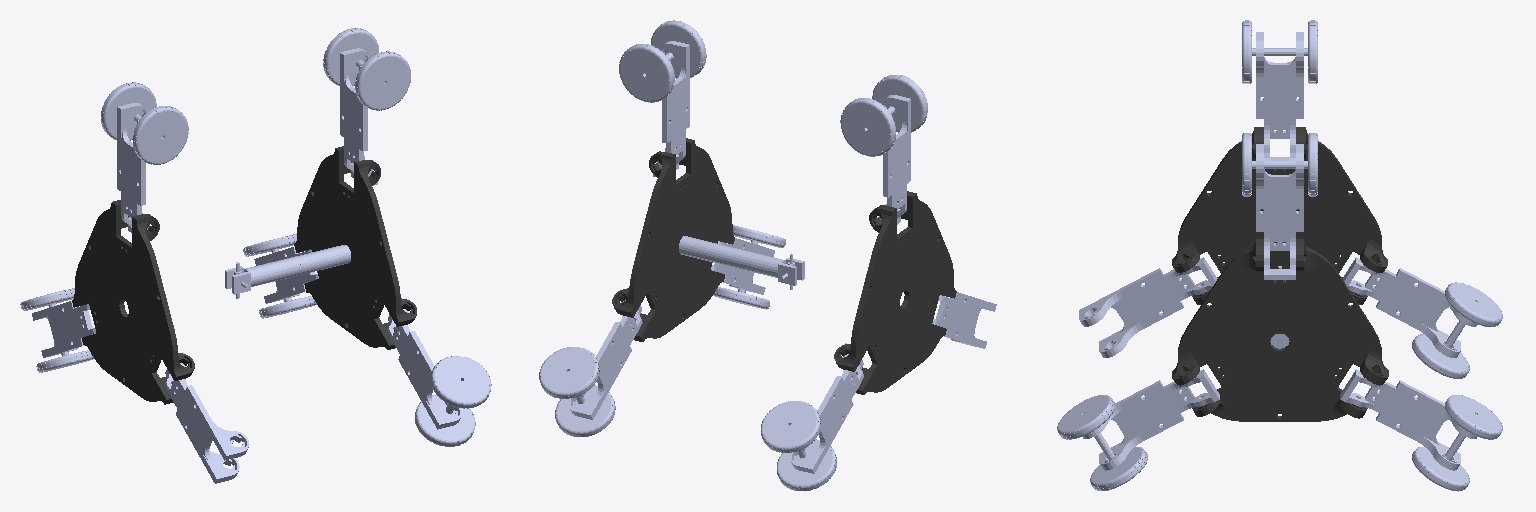
--- What the picture shows (computed from the rendered views, not written in the file) ---
The picture shows the robot from 3 angles, left to right: view 1: azimuth 30°, elevation 25°; view 2: azimuth 150°, elevation 25°; view 3: azimuth 270°, elevation 25°; orthographic projection.
Robot: segl_ver3 — 19 links, 18 joints (8 revolute, 6 continuous, 2 prismatic, 2 fixed); root link base_link; default pose: every joint at zero.
Links seen in each view (by area): view 1: base_link, base2, w6, w3, w4, sus1, sus3, sus4, sus6, sus2, con3, w2 (+3 smaller); view 2: base_link, base2, w3, w6, w5, w2, sus2, sus5, sus6, sus3, sus1, con3 (+3 smaller); view 3: base2, base_link, sus1, sus5, sus4, sus2, sus6, sus3, w5, w4, w2, w6 (+1 smaller).
Boxes of the visible links, x1,y1,x2,y2 form: base_link: (72,200,194,404); base2: (294,146,416,349); w6: (323,28,410,110); w3: (101,82,188,164); w4: (415,356,491,446); sus1: (165,352,248,483); sus3: (117,103,154,238); sus4: (388,298,461,429); sus6: (340,48,377,185); sus2: (32,301,95,357); con3: (225,257,300,294); w2: (20,288,93,372); base_link: (834,191,956,394); base2: (612,138,734,341); w3: (840,75,927,156); w6: (619,20,706,102); w5: (539,347,615,436); w2: (761,401,836,490); sus2: (790,343,863,473); sus5: (568,300,642,419); sus6: (653,41,689,176); sus3: (879,95,910,224); sus1: (932,292,996,348); con3: (728,248,804,285); base2: (1172,239,1388,421); base_link: (1172,127,1387,304); sus1: (1079,257,1217,357); sus5: (1340,369,1476,470); sus4: (1083,369,1219,470); sus2: (1342,257,1477,357); sus6: (1256,144,1303,279); sus3: (1256,32,1303,160); w5: (1412,395,1502,491); w4: (1057,395,1147,490); w2: (1412,282,1502,378); w6: (1242,133,1317,196).
Size in the robot's own frame: 0.165 by 0.2231 by 0.1936 metres.
Meshes: 19 distinct files referenced, 16 mesh visuals loaded (16 binary STL); not drawn: 3 (reference not matched to a file when rendering).

The robot description file, URDF, robot "segl_ver3":
<?xml version="1.0" encoding="utf-8"?>
<!-- This URDF was automatically created by SolidWorks to URDF Exporter! Originally created by Stephen Brawner ([email redacted]) 
     Commit Version: 1.6.0-1-g15f4949  Build Version: 1.6.7594.29634
     For more information, please see http://wiki.ros.org/sw_urdf_exporter -->
<robot
  name="segl_ver3">
  <link
    name="base_link">
    <inertial>
      <origin
        xyz="0.0107631885751334 -0.196706606649359 0.125751388465178"
        rpy="0 0 0" />
      <mass
        value="0.0292481653022373" />
      <inertia
        ixx="3.88747734808684E-05"
        ixy="-3.06596509862475E-09"
        ixz="-5.98006564893272E-08"
        iyy="1.98637946417116E-05"
        iyz="-7.64627510958977E-10"
        izz="1.93056895699406E-05" />
    </inertial>
    <visual>
      <origin
        xyz="0 0 0"
        rpy="0 0 0" />
      <geometry>
        <mesh
          filename="package://segl_ver3/meshes/base_link.STL" />
      </geometry>
      <material
        name="">
        <color
          rgba="0.298039215686275 0.298039215686275 0.298039215686275 1" />
      </material>
    </visual>
    <collision>
      <origin
        xyz="0 0 0"
        rpy="0 0 0" />
      <geometry>
        <mesh
          filename="package://segl_ver3/meshes/base_link.STL" />
      </geometry>
    </collision>
  </link>
  <link
    name="sus1">
    <inertial>
      <origin
        xyz="0.0245281392565478 -0.00579743460623024 -0.00799999809102764"
        rpy="0 0 0" />
      <mass
        value="0.00484464615393237" />
      <inertia
        ixx="3.44953495510738E-07"
        ixy="5.10613042897034E-08"
        ixz="1.27802151011425E-14"
        iyy="2.31225028349891E-06"
        iyz="2.19478513297689E-14"
        izz="2.08649864683354E-06" />
    </inertial>
    <visual>
      <origin
        xyz="0 0 0"
        rpy="0 0 0" />
      <geometry>
        <mesh
          filename="package://segl_ver3/meshes/sus1.STL" />
      </geometry>
      <material
        name="">
        <color
          rgba="0.792156862745098 0.819607843137255 0.933333333333333 1" />
      </material>
    </visual>
    <collision>
      <origin
        xyz="0 0 0"
        rpy="0 0 0" />
      <geometry>
        <mesh
          filename="package://segl_ver3/meshes/sus1.STL" />
      </geometry>
    </collision>
  </link>
  <joint
    name="sus1r"
    type="revolute">
    <origin
      xyz="0.0209492573018266 -0.281484925581457 0.067161403096656"
      rpy="3.14159265358979 -0.523598775598299 1.57079632679491" />
    <parent
      link="base_link" />
    <child
      link="sus1" />
    <axis
      xyz="0 0 -1" />
    <limit
      lower="0"
      upper="0"
      effort="0"
      velocity="0" />
  </joint>
  <link
    name="w1">
    <inertial>
      <origin
        xyz="5.22216991871716E-12 0.0109999999662131 1.83967285849462E-11"
        rpy="0 0 0" />
      <mass
        value="0.00802564595067572" />
      <inertia
        ixx="2.63042675367951E-06"
        ixy="-7.55275668023255E-16"
        ixz="6.57318689953459E-16"
        iyy="9.68771865572928E-07"
        iyz="-1.40328660408691E-15"
        izz="2.63042674934207E-06" />
    </inertial>
    <visual>
      <origin
        xyz="0 0 0"
        rpy="0 0 0" />
      <geometry>
        <mesh
          filename="package://segl_ver3/meshes/w1.STL" />
      </geometry>
      <material
        name="">
        <color
          rgba="0.792156862745098 0.819607843137255 0.933333333333333 1" />
      </material>
    </visual>
    <collision>
      <origin
        xyz="0 0 0"
        rpy="0 0 0" />
      <geometry>
        <mesh
          filename="package://segl_ver3/meshes/w1.STL" />
      </geometry>
    </collision>
  </link>
  <joint
    name="w1c"
    type="continuous">
    <origin
      xyz="0 0 -0.019"
      rpy="1.5707963267949 0 -1.09932300692303" />
    <parent
      link="sus1" />
    <child
      link="w1" />
    <axis
      xyz="0 1 0" />
  </joint>
  <link
    name="sus2">
    <inertial>
      <origin
        xyz="0.0245281388862843 -0.00579743458596982 -0.00799999408218524"
        rpy="0 0 0" />
      <mass
        value="0.00484464622012381" />
      <inertia
        ixx="3.44953504540437E-07"
        ixy="5.10613036903035E-08"
        ixz="1.55592500691201E-13"
        iyy="2.31225031988856E-06"
        iyz="4.30376878606254E-14"
        izz="2.0864986737292E-06" />
    </inertial>
    <visual>
      <origin
        xyz="0 0 0"
        rpy="0 0 0" />
      <geometry>
        <mesh
          filename="package://segl_ver3/meshes/sus2.STL" />
      </geometry>
      <material
        name="">
        <color
          rgba="0.792156862745098 0.819607843137255 0.933333333333333 1" />
      </material>
    </visual>
    <collision>
      <origin
        xyz="0 0 0"
        rpy="0 0 0" />
      <geometry>
        <mesh
          filename="package://segl_ver3/meshes/sus2.STL" />
      </geometry>
    </collision>
  </link>
  <joint
    name="sus2r"
    type="revolute">
    <origin
      xyz="0.0209492573018259 -0.103962409966498 0.0810178095573729"
      rpy="0 -0.523598775598294 -1.5707963267949" />
    <parent
      link="base_link" />
    <child
      link="sus2" />
    <axis
      xyz="0 0 -1" />
    <limit
      lower="0"
      upper="0"
      effort="0"
      velocity="0" />
  </joint>
  <link
    name="w2">
    <inertial>
      <origin
        xyz="5.21314241774817E-12 0.0109999999660882 1.84374460143744E-11"
        rpy="0 0 0" />
      <mass
        value="0.00802564595064063" />
      <inertia
        ixx="2.63042675366783E-06"
        ixy="-7.55284323641185E-16"
        ixz="6.57278297069787E-16"
        iyy="9.6877186556785E-07"
        iyz="-1.3996895463275E-15"
        izz="2.63042674933547E-06" />
    </inertial>
    <visual>
      <origin
        xyz="0 0 0"
        rpy="0 0 0" />
      <geometry>
        <mesh
          filename="package://segl_ver3/meshes/w2.STL" />
      </geometry>
      <material
        name="">
        <color
          rgba="0.792156862745098 0.819607843137255 0.933333333333333 1" />
      </material>
    </visual>
    <collision>
      <origin
        xyz="0 0 0"
        rpy="0 0 0" />
      <geometry>
        <mesh
          filename="package://segl_ver3/meshes/w2.STL" />
      </geometry>
    </collision>
  </link>
  <joint
    name="w2c"
    type="continuous">
    <origin
      xyz="0 0 -0.019"
      rpy="1.5707963267949 0 -1.09932300692303" />
    <parent
      link="sus2" />
    <child
      link="w2" />
    <axis
      xyz="0 1 0" />
  </joint>
  <link
    name="sus3">
    <inertial>
      <origin
        xyz="0.0245281427339186 -0.00579743476204341 -0.00799999583699243"
        rpy="0 0 0" />
      <mass
        value="0.00484464531506038" />
      <inertia
        ixx="3.44953306450567E-07"
        ixy="5.10613156648366E-08"
        ixz="7.85719483349813E-14"
        iyy="2.31224993634185E-06"
        iyz="3.48701370300672E-14"
        izz="2.08649849059194E-06" />
    </inertial>
    <visual>
      <origin
        xyz="0 0 0"
        rpy="0 0 0" />
      <geometry>
        <mesh
          filename="package://segl_ver3/meshes/sus3.STL" />
      </geometry>
      <material
        name="">
        <color
          rgba="0.792156862745098 0.819607843137255 0.933333333333333 1" />
      </material>
    </visual>
    <collision>
      <origin
        xyz="0 0 0"
        rpy="0 0 0" />
      <geometry>
        <mesh
          filename="package://segl_ver3/meshes/sus3.STL" />
      </geometry>
    </collision>
  </link>
  <joint
    name="sus3r"
    type="revolute">
    <origin
      xyz="0.0209492573018252 -0.20472366777412 0.227828614593289"
      rpy="1.5707963267949 1.5707963267949 0" />
    <parent
      link="base_link" />
    <child
      link="sus3" />
    <axis
      xyz="0 0 1" />
    <limit
      lower="0"
      upper="0"
      effort="0"
      velocity="0" />
  </joint>
  <link
    name="w3">
    <inertial>
      <origin
        xyz="5.21754861537715E-12 0.0109999999661513 1.84169901551456E-11"
        rpy="0 0 0" />
      <mass
        value="0.00802564595065764" />
      <inertia
        ixx="2.63042675367367E-06"
        ixy="-7.5526741230513E-16"
        ixz="6.57296825915509E-16"
        iyy="9.6877186557038E-07"
        iyz="-1.40145231771364E-15"
        izz="2.63042674933879E-06" />
    </inertial>
    <visual>
      <origin
        xyz="0 0 0"
        rpy="0 0 0" />
      <geometry>
        <mesh
          filename="package://segl_ver3/meshes/w3.STL" />
      </geometry>
      <material
        name="">
        <color
          rgba="0.792156862745098 0.819607843137255 0.933333333333333 1" />
      </material>
    </visual>
    <collision>
      <origin
        xyz="0 0 0"
        rpy="0 0 0" />
      <geometry>
        <mesh
          filename="package://segl_ver3/meshes/w3.STL" />
      </geometry>
    </collision>
  </link>
  <joint
    name="w3c"
    type="continuous">
    <origin
      xyz="0 0 -0.019"
      rpy="1.5707963267949 0 -1.09932300692303" />
    <parent
      link="sus3" />
    <child
      link="w3" />
    <axis
      xyz="0 1 0" />
  </joint>
  <link
    name="con1">
    <inertial>
      <origin
        xyz="0.0150000000000001 -8.32667268468867E-17 -1.52655665885959E-16"
        rpy="0 0 0" />
      <mass
        value="0.00235619449019234" />
      <inertia
        ixx="2.94524311274043E-08"
        ixy="4.86347831101101E-22"
        ixz="1.21907854063494E-21"
        iyy="1.91440802328128E-07"
        iyz="0"
        izz="1.91440802328128E-07" />
    </inertial>
    <visual>
      <origin
        xyz="0 0 0"
        rpy="0 0 0" />
      <geometry>
        <mesh
          filename="package://segl_ver3/meshes/con1.STL" />
      </geometry>
      <material
        name="">
        <color
          rgba="0.792156862745098 0.819607843137255 0.933333333333333 1" />
      </material>
    </visual>
    <collision>
      <origin
        xyz="0 0 0"
        rpy="0 0 0" />
      <geometry>
        <mesh
          filename="package://segl_ver3/meshes/con1.STL" />
      </geometry>
    </collision>
  </link>
  <joint
    name="con1f"
    type="fixed">
    <origin
      xyz="0.0116192573018258 -0.196723667774025 0.125335942415772"
      rpy="3.05723846361397 0 0" />
    <parent
      link="base_link" />
    <child
      link="con1" />
    <axis
      xyz="0 0 0" />
  </joint>
  <link
    name="con2">
    <inertial>
      <origin
        xyz="5.55111512312578E-17 0.0511300493614309 -2.22044604925031E-16"
        rpy="0 0 0" />
      <mass
        value="0.00279336263712055" />
      <inertia
        ixx="3.47148573143988E-07"
        ixy="-3.19850039887356E-22"
        ixz="6.2082539733927E-24"
        iyy="3.99316347503688E-08"
        iyz="1.06347580390551E-21"
        izz="3.49420107139763E-07" />
    </inertial>
    <visual>
      <origin
        xyz="0 0 0"
        rpy="0 0 0" />
      <geometry>
        <mesh
          filename="package://segl_ver3/meshes/con2.STL" />
      </geometry>
      <material
        name="">
        <color
          rgba="0.792156862745098 0.819607843137255 0.933333333333333 1" />
      </material>
    </visual>
    <collision>
      <origin
        xyz="0 0 0"
        rpy="0 0 0" />
      <geometry>
        <mesh
          filename="package://segl_ver3/meshes/con2.STL" />
      </geometry>
    </collision>
  </link>
  <joint
    name="con2p"
    type="prismatic">
    <origin
      xyz="-0.00299999999999994 0 0"
      rpy="0 -1.48644213681907 -1.5707963267948" />
    <parent
      link="con1" />
    <child
      link="con2" />
    <axis
      xyz="0 -1 0" />
    <limit
      lower="0"
      upper="0"
      effort="0"
      velocity="0" />
  </joint>
  <link
    name="uni">
    <inertial>
      <origin
        xyz="4.44089209850063E-16 1.92840421409102E-09 1.92840421409102E-09"
        rpy="0 0 0" />
      <mass
        value="0.000271492148155946" />
      <inertia
        ixx="5.93557661395575E-09"
        ixy="4.47220671747469E-15"
        ixz="-4.47220671835687E-15"
        iyy="3.20070578284846E-09"
        iyz="1.00938791707803E-21"
        izz="3.20070578284845E-09" />
    </inertial>
    <visual>
      <origin
        xyz="0 0 0"
        rpy="0 0 0" />
      <geometry>
        <mesh
          filename="package://segl_ver3/meshes/uni.STL" />
      </geometry>
      <material
        name="">
        <color
          rgba="0.792156862745098 0.819607843137255 0.933333333333333 1" />
      </material>
    </visual>
    <collision>
      <origin
        xyz="0 0 0"
        rpy="0 0 0" />
      <geometry>
        <mesh
          filename="package://segl_ver3/meshes/uni.STL" />
      </geometry>
    </collision>
  </link>
  <joint
    name="unir"
    type="revolute">
    <origin
      xyz="0 0.068 0"
      rpy="0 0 1.5708" />
    <parent
      link="con2" />
    <child
      link="uni" />
    <axis
      xyz="0 -1 0" />
    <limit
      lower="-1.5708"
      upper="1.5708"
      effort="0"
      velocity="0" />
  </joint>
  <link
    name="con3">
    <inertial>
      <origin
        xyz="0.0168699506385676 -4.71844785465692E-16 1.66533453693773E-16"
        rpy="0 0 0" />
      <mass
        value="0.00279336263712055" />
      <inertia
        ixx="3.99316347503688E-08"
        ixy="-2.21467257943283E-21"
        ixz="9.90791802748748E-22"
        iyy="3.49420107139762E-07"
        iyz="2.19679978128615E-23"
        izz="3.47148573143987E-07" />
    </inertial>
    <visual>
      <origin
        xyz="0 0 0"
        rpy="0 0 0" />
      <geometry>
        <mesh
          filename="package://segl_ver3/meshes/con3.STL" />
      </geometry>
      <material
        name="">
        <color
          rgba="0.792156862745098 0.819607843137255 0.933333333333333 1" />
      </material>
    </visual>
    <collision>
      <origin
        xyz="0 0 0"
        rpy="0 0 0" />
      <geometry>
        <mesh
          filename="package://segl_ver3/meshes/con3.STL" />
      </geometry>
    </collision>
  </link>
  <joint
    name="con3r"
    type="revolute">
    <origin
      xyz="0 0 0"
      rpy="0 0 0" />
    <parent
      link="uni" />
    <child
      link="con3" />
    <axis
      xyz="0 0 -1" />
    <limit
      lower="-1.5708"
      upper="1.5708"
      effort="0"
      velocity="0" />
  </joint>
  <link
    name="con4">
    <inertial>
      <origin
        xyz="-0.0150000000000001 -7.49400541621981E-16 -3.33066907387547E-16"
        rpy="0 0 0" />
      <mass
        value="0.00235619449019234" />
      <inertia
        ixx="2.94524311274043E-08"
        ixy="-1.15743391516541E-21"
        ixz="-6.82310798372852E-22"
        iyy="1.91440802328128E-07"
        iyz="6.61744490042422E-24"
        izz="1.91440802328128E-07" />
    </inertial>
    <visual>
      <origin
        xyz="0 0 0"
        rpy="0 0 0" />
      <geometry>
        <mesh
          filename="package://segl_ver3/meshes/con4.STL" />
      </geometry>
      <material
        name="">
        <color
          rgba="0.792156862745098 0.819607843137255 0.933333333333333 1" />
      </material>
    </visual>
    <collision>
      <origin
        xyz="0 0 0"
        rpy="0 0 0" />
      <geometry>
        <mesh
          filename="package://segl_ver3/meshes/con4.STL" />
      </geometry>
    </collision>
  </link>
  <joint
    name="con4p"
    type="prismatic">
    <origin
      xyz="0.0650000000000009 0 0"
      rpy="-0.98269663008103 0 0" />
    <parent
      link="con3" />
    <child
      link="con4" />
    <axis
      xyz="-1 0 0" />
    <limit
      lower="0"
      upper="0"
      effort="0"
      velocity="0" />
  </joint>
  <link
    name="base2">
    <inertial>
      <origin
        xyz="-1.70019768645918E-05 0.00214393347748171 0.000415436461369573"
        rpy="0 0 0" />
      <mass
        value="0.0292481701284546" />
      <inertia
        ixx="1.98637964228682E-05"
        ixy="3.05143639764182E-09"
        ixz="8.03293928394738E-10"
        iyy="3.88747924136026E-05"
        iyz="-5.98005959044395E-08"
        izz="1.93057075699702E-05" />
    </inertial>
    <visual>
      <origin
        xyz="0 0 0"
        rpy="0 0 0" />
      <geometry>
        <mesh
          filename="package://segl_ver3/meshes/base2.STL" />
      </geometry>
      <material
        name="">
        <color
          rgba="0.298039215686275 0.298039215686275 0.298039215686275 1" />
      </material>
    </visual>
    <collision>
      <origin
        xyz="0 0 0"
        rpy="0 0 0" />
      <geometry>
        <mesh
          filename="package://segl_ver3/meshes/base2.STL" />
      </geometry>
    </collision>
  </link>
  <joint
    name="base2f"
    type="fixed">
    <origin
      xyz="0 0 0"
      rpy="3.14159265358979 -0.459097854482748 1.5707963267949" />
    <parent
      link="con4" />
    <child
      link="base2" />
    <axis
      xyz="0 0 0" />
  </joint>
  <link
    name="sus4">
    <inertial>
      <origin
        xyz="0.0245281392565479 -0.00579743460623028 -0.00799999809102761"
        rpy="0 0 0" />
      <mass
        value="0.00484464615393236" />
      <inertia
        ixx="3.44953495510737E-07"
        ixy="5.10613042897036E-08"
        ixz="1.27802164775711E-14"
        iyy="2.31225028349891E-06"
        iyz="2.19478512172723E-14"
        izz="2.08649864683353E-06" />
    </inertial>
    <visual>
      <origin
        xyz="0 0 0"
        rpy="0 0 0" />
      <geometry>
        <mesh
          filename="package://segl_ver3/meshes/sus4.STL" />
      </geometry>
      <material
        name="">
        <color
          rgba="0.792156862745098 0.819607843137255 0.933333333333333 1" />
      </material>
    </visual>
    <collision>
      <origin
        xyz="0 0 0"
        rpy="0 0 0" />
      <geometry>
        <mesh
          filename="package://segl_ver3/meshes/sus4.STL" />
      </geometry>
    </collision>
  </link>
  <joint
    name="sus4r"
    type="revolute">
    <origin
      xyz="-0.092761257807526 0.0123300000000007 -0.0443181328584011"
      rpy="0 -0.523598775598312 0" />
    <parent
      link="base2" />
    <child
      link="sus4" />
    <axis
      xyz="0 0 -1" />
    <limit
      lower="0"
      upper="0"
      effort="0"
      velocity="0" />
  </joint>
  <link
    name="w4">
    <inertial>
      <origin
        xyz="5.2220727742025E-12 0.010999999966213 1.83967285849462E-11"
        rpy="0 0 0" />
      <mass
        value="0.00802564595067572" />
      <inertia
        ixx="2.63042675367951E-06"
        ixy="-7.55277534142717E-16"
        ixz="6.5731800173919E-16"
        iyy="9.6877186557293E-07"
        iyz="-1.40328700113361E-15"
        izz="2.63042674934208E-06" />
    </inertial>
    <visual>
      <origin
        xyz="0 0 0"
        rpy="0 0 0" />
      <geometry>
        <mesh
          filename="package://segl_ver3/meshes/w4.STL" />
      </geometry>
      <material
        name="">
        <color
          rgba="0.792156862745098 0.819607843137255 0.933333333333333 1" />
      </material>
    </visual>
    <collision>
      <origin
        xyz="0 0 0"
        rpy="0 0 0" />
      <geometry>
        <mesh
          filename="package://segl_ver3/meshes/w4.STL" />
      </geometry>
    </collision>
  </link>
  <joint
    name="w4c"
    type="continuous">
    <origin
      xyz="0 0 -0.019"
      rpy="1.57079632679489 0 -1.09932300692303" />
    <parent
      link="sus4" />
    <child
      link="w4" />
    <axis
      xyz="0 1 0" />
  </joint>
  <link
    name="sus5">
    <inertial>
      <origin
        xyz="0.0245281388862843 -0.00579743458596979 -0.00799999408218524"
        rpy="0 0 0" />
      <mass
        value="0.00484464622012381" />
      <inertia
        ixx="3.44953504540437E-07"
        ixy="5.10613036903036E-08"
        ixz="1.55592501723522E-13"
        iyy="2.31225031988856E-06"
        iyz="4.30376880723837E-14"
        izz="2.0864986737292E-06" />
    </inertial>
    <visual>
      <origin
        xyz="0 0 0"
        rpy="0 0 0" />
      <geometry>
        <mesh
          filename="package://segl_ver3/meshes/sus5.STL" />
      </geometry>
      <material
        name="">
        <color
          rgba="0.792156862745098 0.819607843137255 0.933333333333333 1" />
      </material>
    </visual>
    <collision>
      <origin
        xyz="0 0 0"
        rpy="0 0 0" />
      <geometry>
        <mesh
          filename="package://segl_ver3/meshes/sus5.STL" />
      </geometry>
    </collision>
  </link>
  <joint
    name="sus5r"
    type="revolute">
    <origin
      xyz="0.00800000000009428 0.01233 0.102492672177516"
      rpy="0 1.5707963267949 0" />
    <parent
      link="base2" />
    <child
      link="sus5" />
    <axis
      xyz="0 0 -1" />
    <limit
      lower="0"
      upper="0"
      effort="0"
      velocity="0" />
  </joint>
  <link
    name="w5">
    <inertial>
      <origin
        xyz="5.21316323442989E-12 0.0109999999660882 1.84374182587987E-11"
        rpy="0 0 0" />
      <mass
        value="0.00802564595064064" />
      <inertia
        ixx="2.63042675366783E-06"
        ixy="-7.55283516312907E-16"
        ixz="6.57280202893918E-16"
        iyy="9.68771865567853E-07"
        iyz="-1.39969026101155E-15"
        izz="2.63042674933548E-06" />
    </inertial>
    <visual>
      <origin
        xyz="0 0 0"
        rpy="0 0 0" />
      <geometry>
        <mesh
          filename="package://segl_ver3/meshes/w5.STL" />
      </geometry>
      <material
        name="">
        <color
          rgba="0.792156862745098 0.819607843137255 0.933333333333333 1" />
      </material>
    </visual>
    <collision>
      <origin
        xyz="0 0 0"
        rpy="0 0 0" />
      <geometry>
        <mesh
          filename="package://segl_ver3/meshes/w5.STL" />
      </geometry>
    </collision>
  </link>
  <joint
    name="w5c"
    type="continuous">
    <origin
      xyz="0 0 -0.019"
      rpy="1.5707963267949 0 -1.09932300692303" />
    <parent
      link="sus5" />
    <child
      link="w5" />
    <axis
      xyz="0 1 0" />
  </joint>
  <link
    name="sus6">
    <inertial>
      <origin
        xyz="0.0245281427339184 -0.00579743476204339 -0.00799999583699257"
        rpy="0 0 0" />
      <mass
        value="0.00484464531506037" />
      <inertia
        ixx="3.44953306450566E-07"
        ixy="5.10613156648364E-08"
        ixz="7.85719547593264E-14"
        iyy="2.31224993634185E-06"
        iyz="3.48701370005681E-14"
        izz="2.08649849059194E-06" />
    </inertial>
    <visual>
      <origin
        xyz="0 0 0"
        rpy="0 0 0" />
      <geometry>
        <mesh
          filename="package://segl_ver3/meshes/sus6.STL" />
      </geometry>
      <material
        name="">
        <color
          rgba="0.792156862745098 0.819607843137255 0.933333333333333 1" />
      </material>
    </visual>
    <collision>
      <origin
        xyz="0 0 0"
        rpy="0 0 0" />
      <geometry>
        <mesh
          filename="package://segl_ver3/meshes/sus6.STL" />
      </geometry>
    </collision>
  </link>
  <joint
    name="sus6r"
    type="revolute">
    <origin
      xyz="0.0847612578074339 0.0123299999999992 -0.0581745393191151"
      rpy="-3.14159265358979 -0.523598775598282 3.14159265358978" />
    <parent
      link="base2" />
    <child
      link="sus6" />
    <axis
      xyz="0 0 1" />
    <limit
      lower="0"
      upper="0"
      effort="0"
      velocity="0" />
  </joint>
  <link
    name="w6">
    <inertial>
      <origin
        xyz="5.21768739325523E-12 0.0109999999661513 1.84169901551456E-11"
        rpy="0 0 0" />
      <mass
        value="0.00802564595065763" />
      <inertia
        ixx="2.63042675367367E-06"
        ixy="-7.55270753422271E-16"
        ixz="6.57297037673745E-16"
        iyy="9.68771865570381E-07"
        iyz="-1.40144992956882E-15"
        izz="2.63042674933879E-06" />
    </inertial>
    <visual>
      <origin
        xyz="0 0 0"
        rpy="0 0 0" />
      <geometry>
        <mesh
          filename="package://segl_ver3/meshes/w6.STL" />
      </geometry>
      <material
        name="">
        <color
          rgba="0.792156862745098 0.819607843137255 0.933333333333333 1" />
      </material>
    </visual>
    <collision>
      <origin
        xyz="0 0 0"
        rpy="0 0 0" />
      <geometry>
        <mesh
          filename="package://segl_ver3/meshes/w6.STL" />
      </geometry>
    </collision>
  </link>
  <joint
    name="w6c"
    type="continuous">
    <origin
      xyz="0 0 -0.019"
      rpy="1.5707963267949 0 -1.09932300692303" />
    <parent
      link="sus6" />
    <child
      link="w6" />
    <axis
      xyz="0 1 0" />
  </joint>
</robot>
